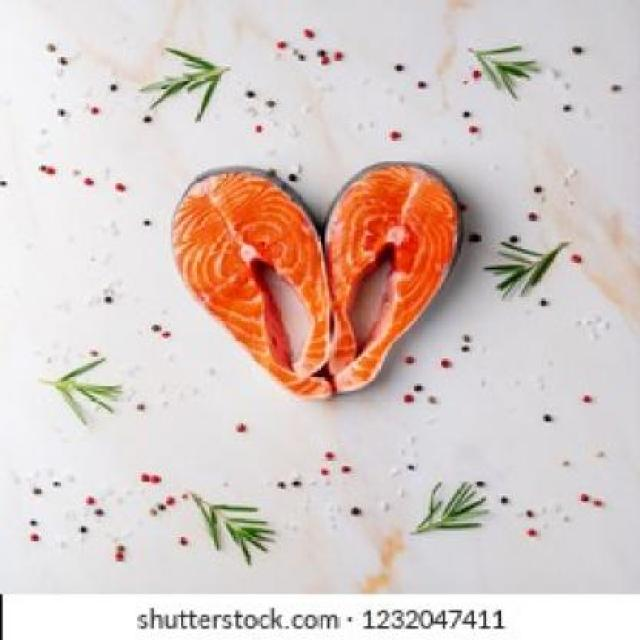salmon: (142, 142, 348, 409), (291, 156, 478, 402)
